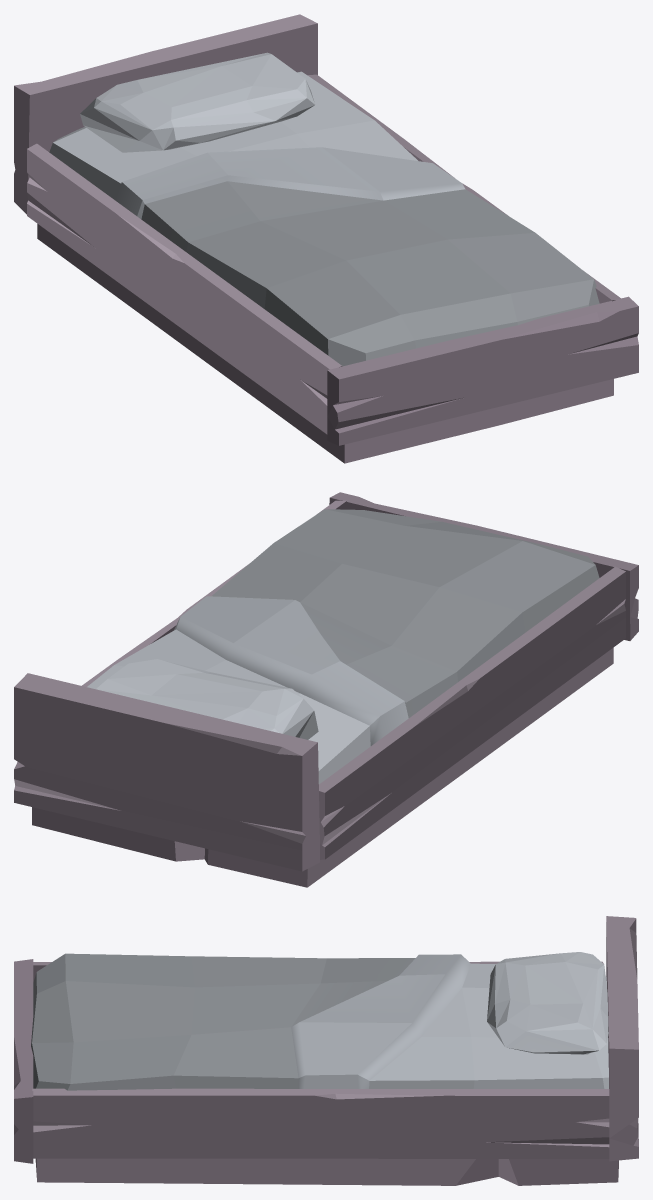
The model's file is Bed_Floore.fbx.
3 views of the same model, one above another, from view 1: azimuth 30°, elevation 25°; view 2: azimuth 150°, elevation 25°; view 3: azimuth 270°, elevation 25° (orthographic). The views are drawn at different scales.
Visible parts, largest first — view 1: SM_Prop_Bed_floor; view 2: SM_Prop_Bed_floor; view 3: SM_Prop_Bed_floor.
Boxes of the visible parts, bbox=[...] form: SM_Prop_Bed_floor: bbox=[14, 14, 638, 463]; SM_Prop_Bed_floor: bbox=[14, 492, 638, 887]; SM_Prop_Bed_floor: bbox=[14, 916, 638, 1185].
Bounding box in the file's own units: 1.1 × 0.5222 × 2.09.
